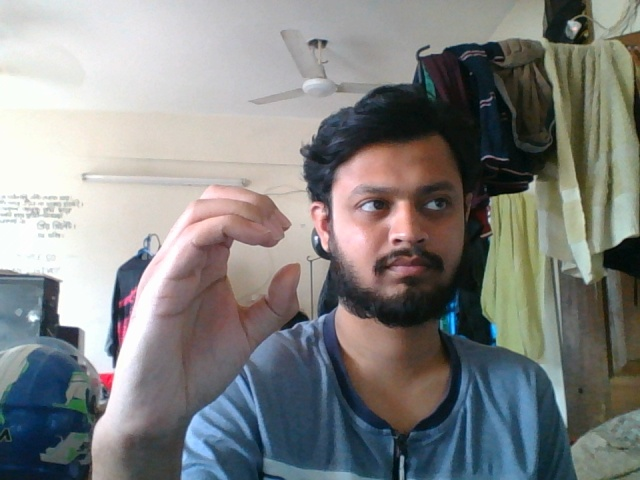ka: (103, 182, 305, 425)
